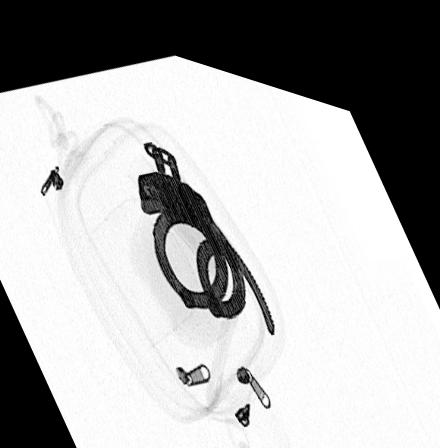HandCuffs: (136, 126, 278, 321)
